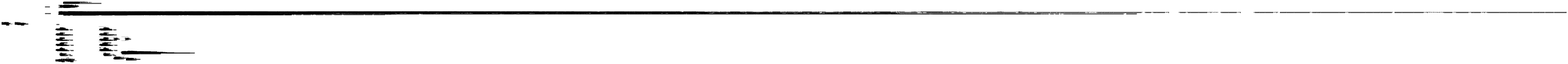corridor: (696, 13, 702, 13), (1234, 13, 1240, 13)
door: (1244, 12, 1266, 15), (1522, 23, 1544, 25), (1383, 23, 1405, 25), (1244, 23, 1265, 25), (1244, 18, 1265, 20), (1250, 34, 1254, 35), (1256, 36, 1259, 36), (1491, 9, 1499, 9)
room: (1215, 34, 1236, 35), (677, 34, 697, 35), (1480, 8, 1488, 10), (817, 50, 830, 51), (1511, 8, 1516, 10), (168, 40, 178, 41), (718, 7, 727, 8), (1256, 7, 1265, 8), (30, 40, 39, 41), (1256, 25, 1265, 26), (718, 25, 727, 26), (668, 0, 672, 2), (817, 53, 823, 54), (1259, 35, 1265, 36), (721, 35, 727, 36), (778, 63, 782, 64), (1250, 34, 1254, 35), (673, 1, 676, 1), (677, 1, 680, 1), (680, 1, 684, 1), (684, 1, 688, 1), (688, 1, 692, 1), (692, 1, 696, 1), (707, 2, 710, 2), (712, 2, 720, 2), (720, 2, 726, 2), (812, 2, 816, 2), (803, 2, 810, 2), (797, 2, 803, 2), (820, 1, 823, 1), (823, 1, 826, 1), (855, 53, 872, 53), (818, 50, 820, 50), (828, 53, 834, 53), (848, 52, 855, 52), (718, 18, 723, 18), (713, 59, 714, 59), (720, 12, 727, 12), (203, 41, 207, 41), (207, 41, 211, 41), (211, 41, 215, 41), (199, 41, 203, 41), (215, 41, 218, 41), (171, 41, 175, 41), (169, 42, 173, 42), (174, 42, 177, 42), (178, 42, 180, 42), (1256, 18, 1261, 18), (1258, 12, 1265, 12), (1485, 10, 1488, 10), (1469, 10, 1473, 10), (1491, 9, 1499, 9), (1256, 36, 1259, 36)
staircase: (697, 12, 729, 14), (1236, 12, 1267, 14), (696, 13, 702, 13), (713, 13, 718, 13), (1234, 13, 1240, 13), (1251, 13, 1256, 13)
wall: (816, 50, 854, 53), (168, 40, 178, 41), (30, 40, 39, 41), (855, 52, 858, 53), (718, 7, 725, 7), (855, 53, 857, 53), (864, 53, 865, 53), (722, 7, 727, 7), (715, 24, 718, 24), (715, 30, 718, 30), (715, 35, 718, 35), (181, 42, 189, 42), (1256, 7, 1263, 7), (1261, 7, 1265, 7), (1253, 24, 1256, 24), (1253, 30, 1256, 30), (1253, 35, 1256, 35), (1470, 10, 1472, 10), (1263, 7, 1264, 7), (1491, 10, 1499, 10)
window: (706, 34, 727, 36), (1244, 34, 1265, 36), (1215, 34, 1236, 35), (677, 34, 697, 35), (718, 25, 727, 26), (1256, 25, 1265, 26), (668, 0, 672, 2), (669, 34, 676, 35), (1258, 23, 1265, 24), (1207, 34, 1214, 35), (721, 35, 727, 36), (1259, 35, 1265, 36), (1537, 23, 1543, 24), (1398, 23, 1404, 24), (721, 23, 726, 24), (715, 18, 718, 19), (1253, 18, 1256, 19), (669, 1, 671, 2), (717, 18, 723, 18), (718, 18, 721, 18), (720, 18, 727, 18), (724, 24, 726, 24), (720, 23, 722, 23), (715, 24, 718, 24), (721, 29, 726, 29), (724, 29, 726, 29), (720, 29, 722, 29), (715, 30, 718, 30), (1263, 24, 1264, 24), (1258, 23, 1260, 23), (1253, 24, 1256, 24), (1260, 29, 1264, 29), (1263, 29, 1264, 29), (1258, 29, 1260, 29), (1253, 30, 1256, 30), (1256, 18, 1261, 18), (1257, 18, 1260, 18), (1258, 18, 1265, 18), (1258, 12, 1264, 12), (1260, 12, 1265, 12), (1254, 13, 1256, 13), (1491, 9, 1499, 9)
